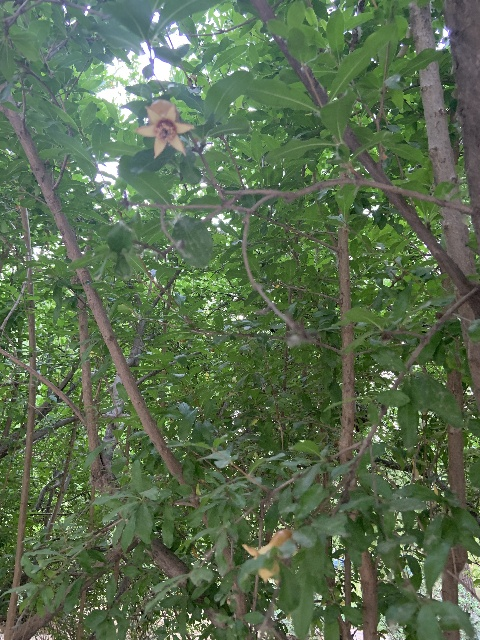early-fruit: (133, 98, 194, 158), (241, 528, 293, 581)
